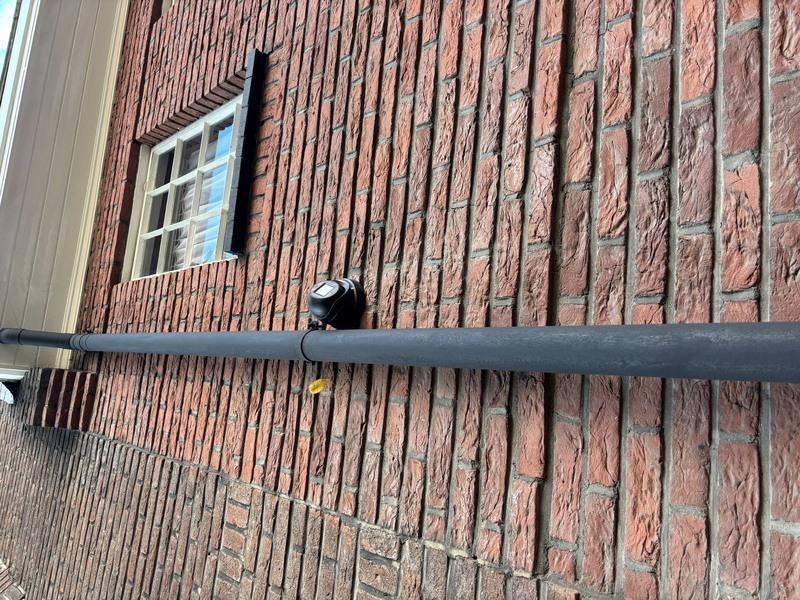turret: (275, 309, 328, 363)
